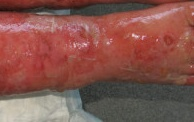SJS-TEN: (0, 0, 194, 100)
